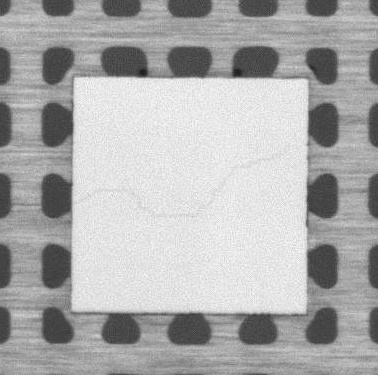DIE_CRACK: (81, 144, 307, 217)
